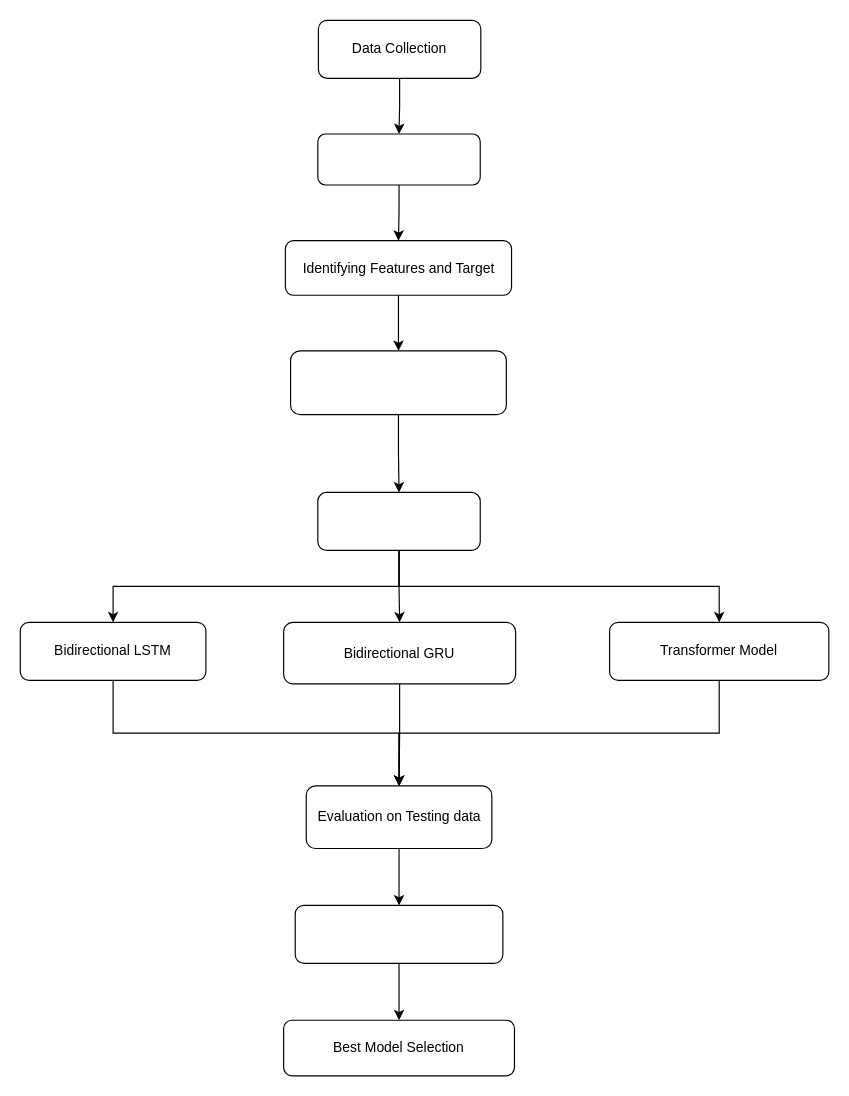
The diagram is 849 pixels wide and 1096 high, and some of its shapes have lost their labels. The shapes that lost their labels are listed below. From the top down, each one's centre as x and y in pixels, then its label:
At point (398, 159): "Data Preprocessing".
At point (397, 382): "Dividing Dataset (test and train data)".
At point (398, 520): "Model Building".
At point (398, 933): "Visualization".
